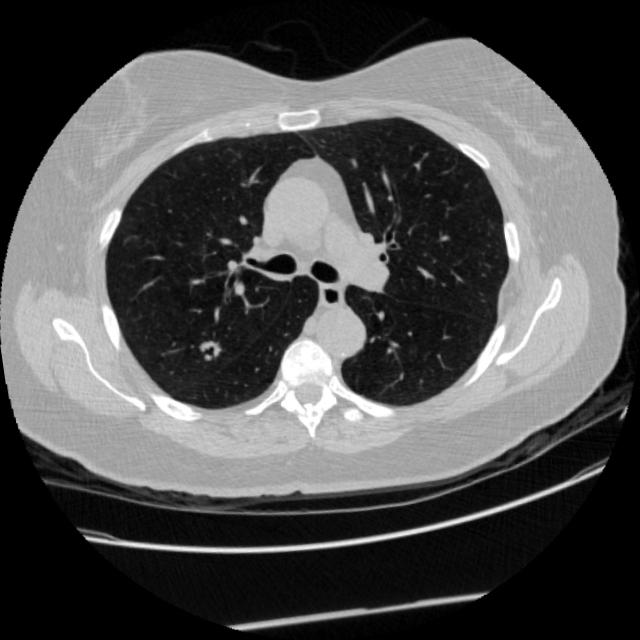nodule: (188, 326, 233, 370)
